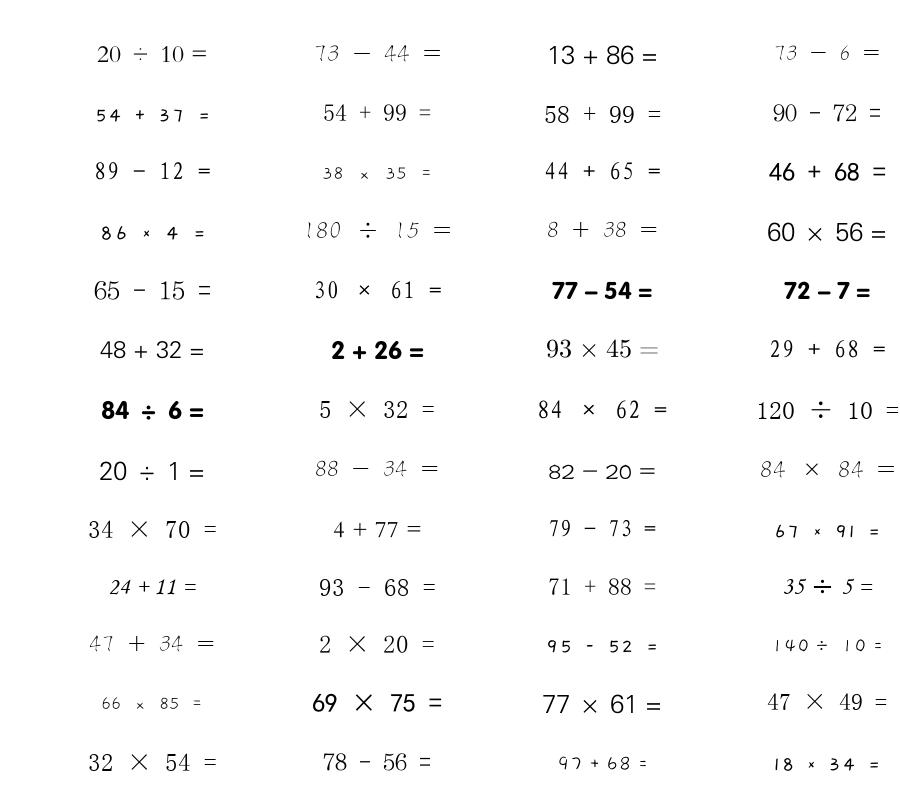MQ: (756, 401, 899, 419), (303, 222, 451, 239), (537, 400, 667, 419), (312, 693, 442, 712), (760, 460, 895, 478), (767, 222, 887, 242), (542, 694, 662, 714), (313, 281, 442, 299), (88, 520, 217, 538), (88, 753, 217, 771), (314, 44, 441, 62), (769, 162, 886, 181), (94, 281, 211, 300), (547, 45, 658, 65), (546, 339, 659, 358), (89, 635, 215, 652), (99, 461, 205, 481), (315, 460, 439, 477), (94, 162, 211, 180), (544, 162, 661, 180), (769, 340, 886, 358), (319, 635, 435, 653), (101, 400, 204, 420), (767, 693, 887, 710), (544, 106, 661, 123), (319, 579, 436, 596), (319, 401, 435, 418), (773, 104, 881, 122), (548, 519, 656, 537), (323, 753, 431, 771), (552, 281, 652, 300), (100, 341, 205, 359), (97, 46, 208, 63), (331, 340, 424, 360), (323, 104, 431, 121), (548, 578, 656, 595), (547, 221, 658, 237), (774, 45, 880, 61), (784, 281, 870, 300), (548, 464, 656, 479), (771, 639, 883, 653), (94, 109, 211, 122), (333, 521, 422, 538), (773, 524, 881, 538), (99, 226, 206, 240), (545, 640, 659, 653), (782, 578, 873, 594), (322, 167, 433, 180), (108, 579, 196, 595), (773, 758, 881, 771), (557, 756, 648, 771), (101, 697, 203, 710)
